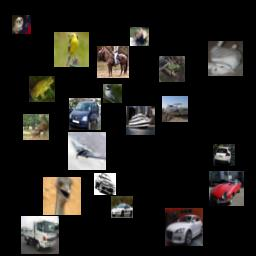airplane: (68, 132, 106, 170), (162, 96, 188, 122)
automobile: (165, 208, 203, 246), (209, 171, 244, 206), (69, 98, 101, 130), (111, 196, 133, 218), (213, 144, 235, 166), (94, 173, 116, 195)
bird: (43, 177, 81, 215), (54, 32, 89, 67), (103, 84, 122, 103)
cat: (208, 41, 243, 76)
deer: (23, 114, 49, 140)
dog: (130, 27, 149, 46), (12, 15, 31, 34)
frog: (29, 76, 55, 102), (159, 56, 185, 82)
ship: (126, 106, 155, 135)
truck: (21, 216, 59, 254)
